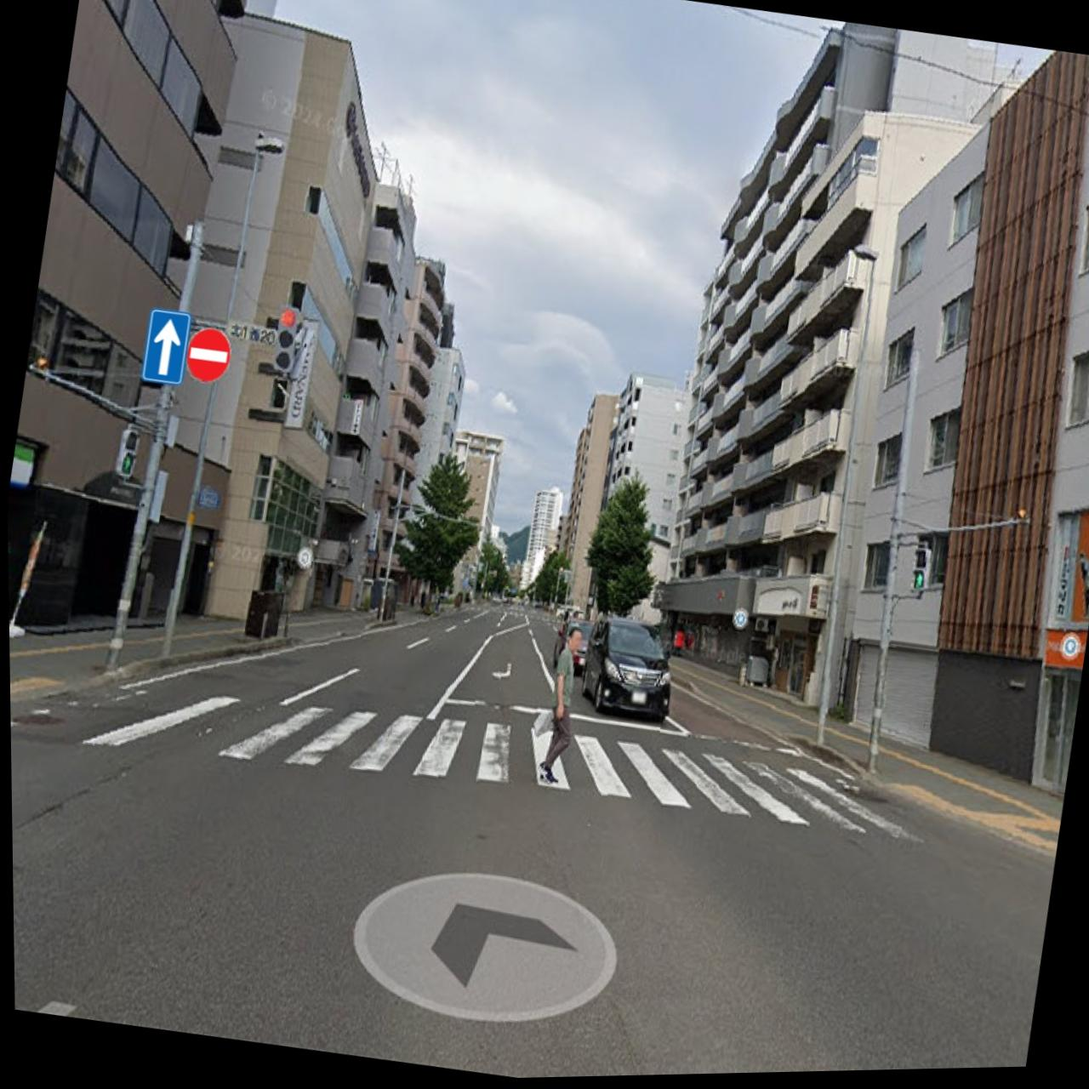barrier: (178, 317, 240, 389)
